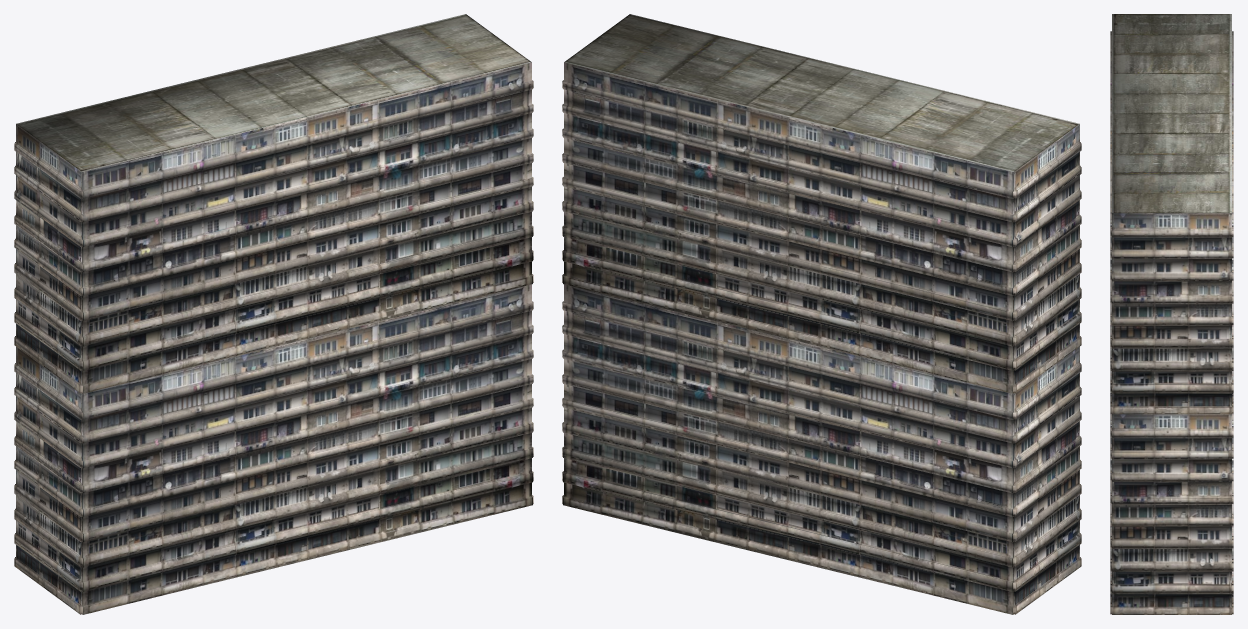
Rendered from building4.obj.
The picture shows the model from 3 angles, left to right: view 1: azimuth 30°, elevation 25°; view 2: azimuth 150°, elevation 25°; view 3: azimuth 270°, elevation 25°; orthographic projection. The views are drawn at different scales.
Bounding box in the file's own units: 53.06 × 49.46 × 13.79.
Materials: 1 (1 with a texture image).
